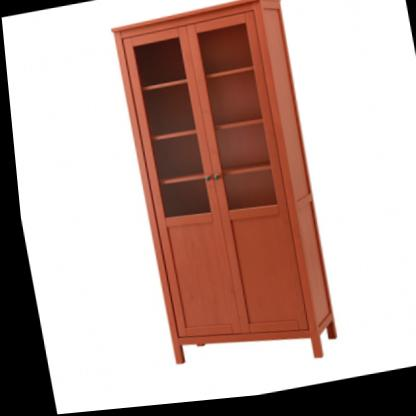Cabinet: (101, 0, 343, 394)
